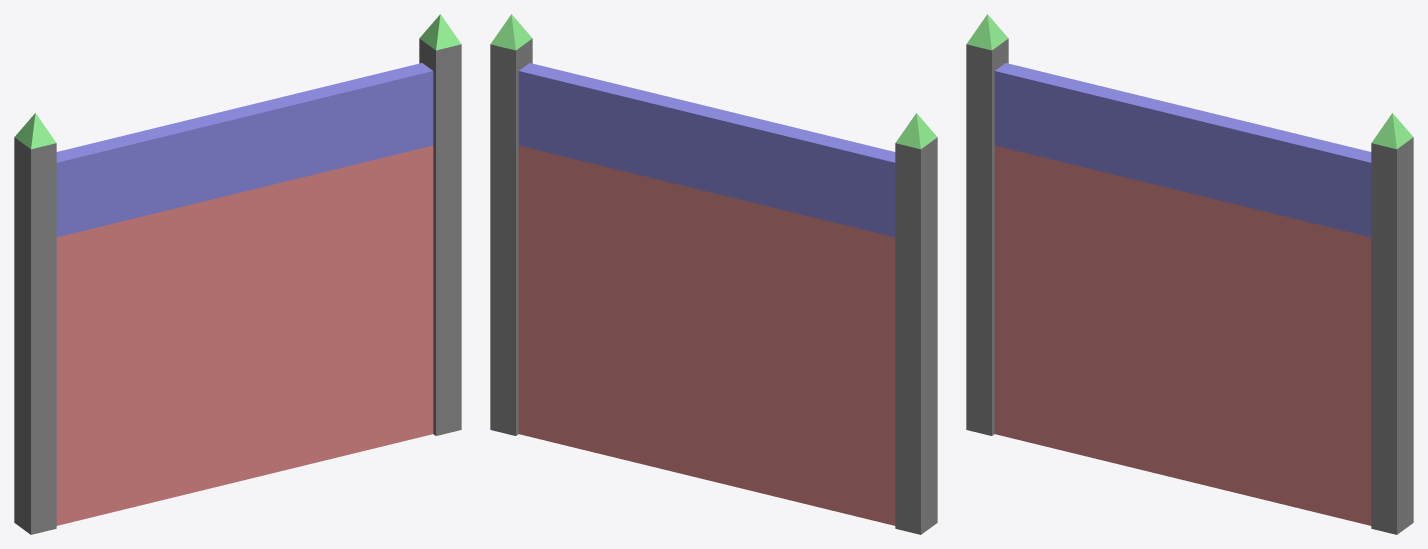
File: Old_War_s__barricade06.gltf
3 renders of one model, left to right at view 1: azimuth 30°, elevation 25°; view 2: azimuth 150°, elevation 25°; view 3: azimuth 330°, elevation 25°, orthographic.
Visible parts, largest first — view 1: barricade06; view 2: barricade06; view 3: barricade06.
Boxes of the visible parts, <box> form: barricade06: <box>14,14,461,534</box>; barricade06: <box>490,14,937,534</box>; barricade06: <box>966,14,1413,534</box>.
Size of the model in its own units: 1.59 by 1.45 by 0.1062.
